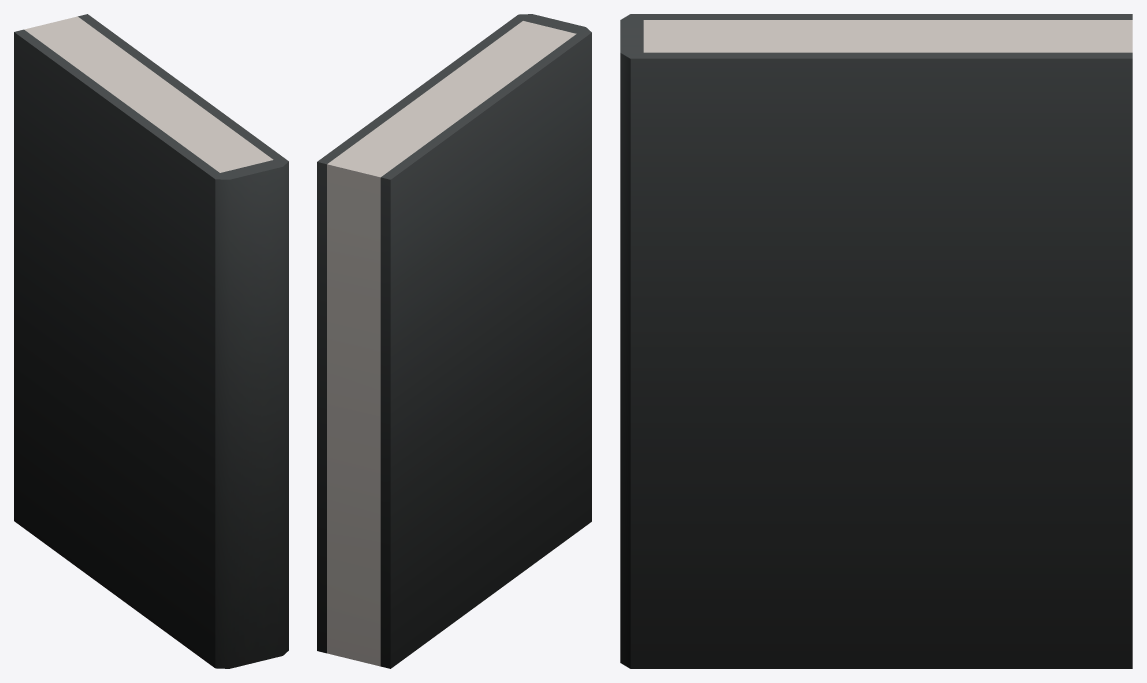
Rendered from Book_B.fbx.
3 renders of one model, left to right at view 1: azimuth 30°, elevation 25°; view 2: azimuth 150°, elevation 25°; view 3: azimuth 270°, elevation 25°, orthographic. The views are drawn at different scales.
Parts seen in each view (by area): view 1: Book_B; view 2: Book_B; view 3: Book_B.
Part boxes in pixels (x1,y1,x2,y2): Book_B: (14,14,288,668); Book_B: (317,14,591,668); Book_B: (620,14,1132,668).
Bounding box in the file's own units: 4.19 × 26.62 × 20.25.
